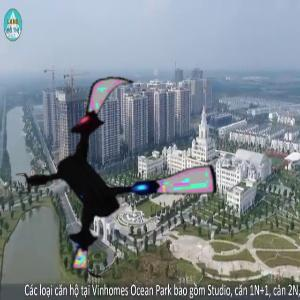drone: (14, 73, 224, 283)
